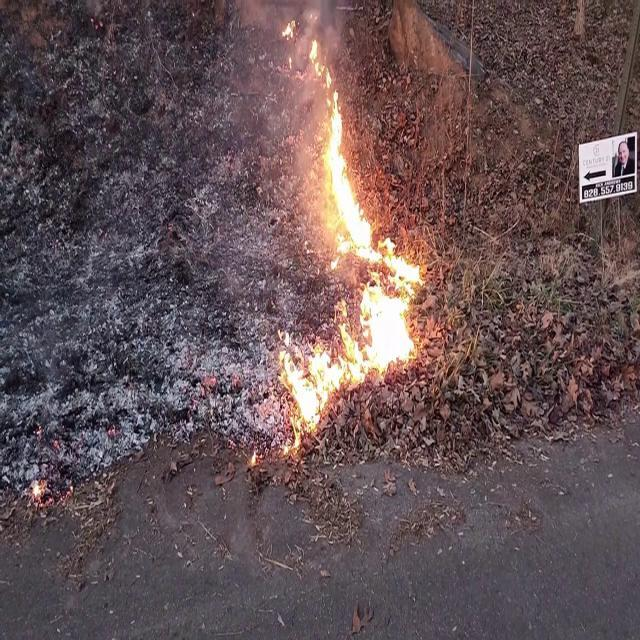Fire: (284, 239, 429, 429), (300, 23, 374, 247)
